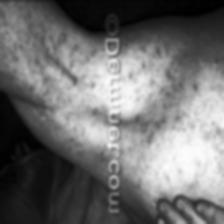Non-Cancerous Skin Condition: (207, 122, 224, 192), (132, 112, 163, 134), (190, 79, 200, 94)
